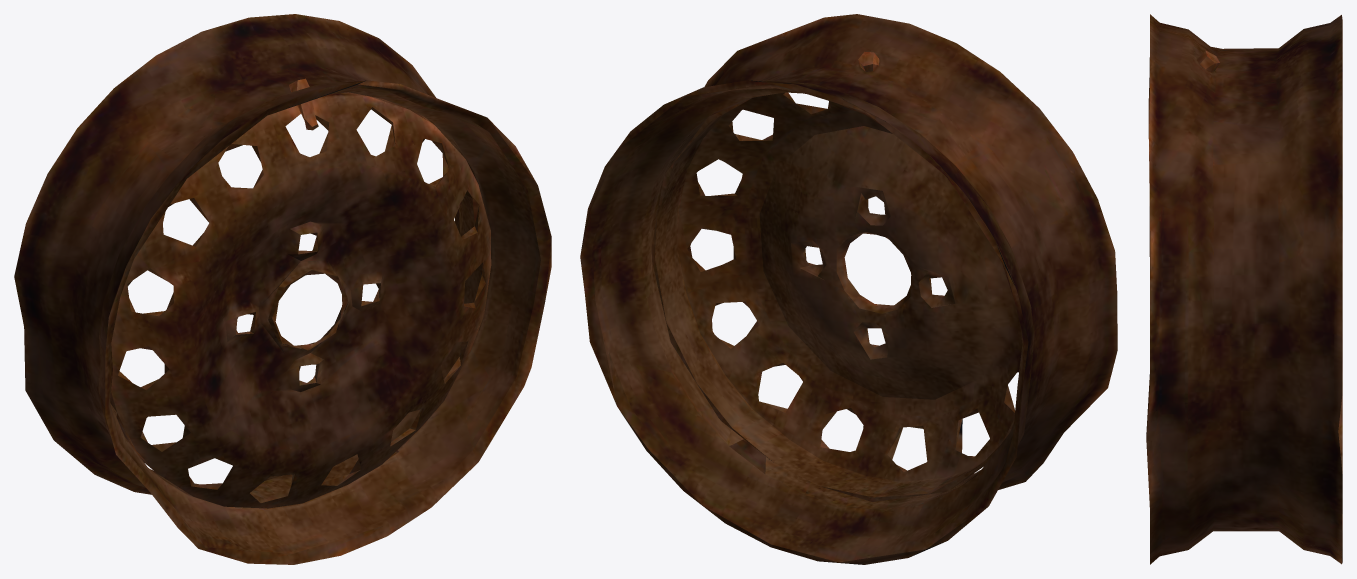
The model's file is rusted_wheel_rim_02.glb.
3 views of the same model, side by side, from view 1: azimuth 30°, elevation 25°; view 2: azimuth 150°, elevation 25°; view 3: azimuth 270°, elevation 25° (orthographic). The views are drawn at different scales.
Visible parts, largest first — view 1: rusted_wheel_rim_02; view 2: rusted_wheel_rim_02; view 3: rusted_wheel_rim_02.
Part boxes in pixels (<box>): rusted_wheel_rim_02: <box>14,14,551,564</box>; rusted_wheel_rim_02: <box>580,14,1117,564</box>; rusted_wheel_rim_02: <box>1146,14,1342,564</box>.
Size of what is drawn, in the model's own units: 0.3364 by 0.3384 by 0.1208.
Materials: 1 (1 with a texture image).
